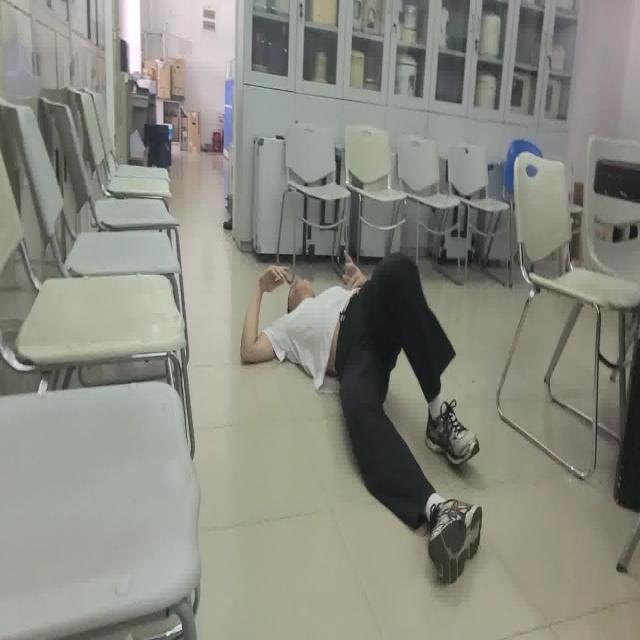fall: (239, 243, 482, 584)
